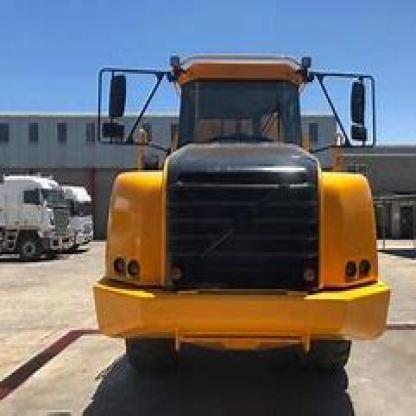dump_truck: (81, 41, 390, 375)
